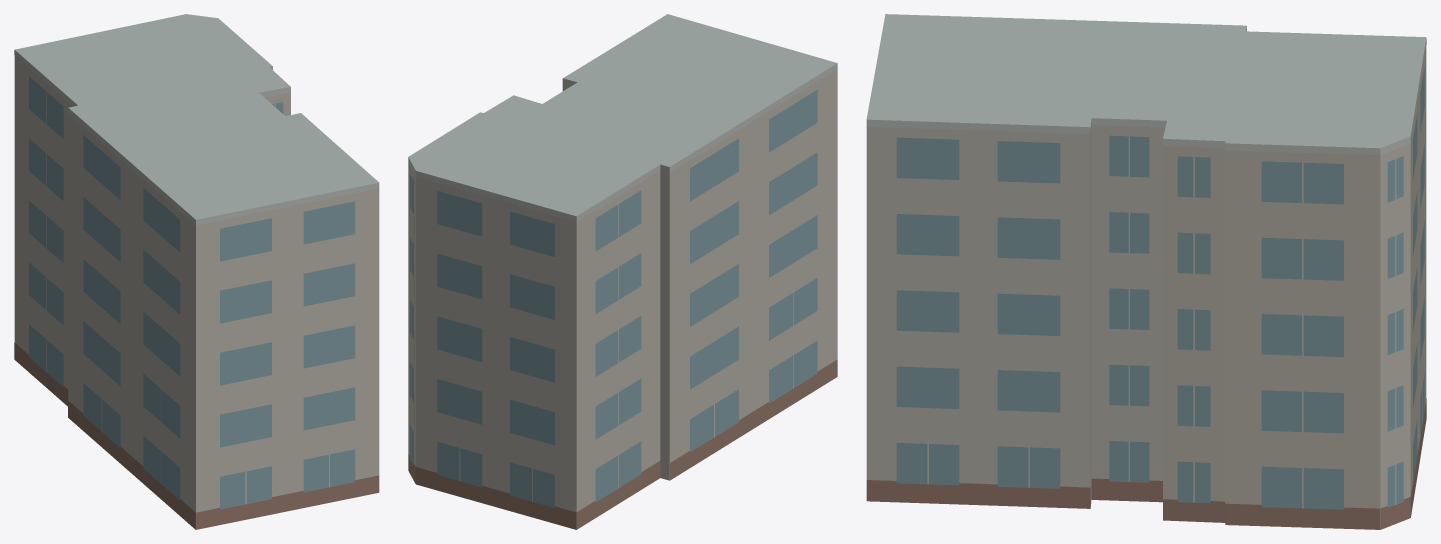
Rendered from survey-upis-32835333.glb.
3 views of the same model, side by side, from view 1: azimuth 30°, elevation 25°; view 2: azimuth 150°, elevation 25°; view 3: azimuth 270°, elevation 25° (orthographic). The views are drawn at different scales.
Visible parts, largest first — view 1: survey-upis-32835333.tmp; view 2: survey-upis-32835333.tmp; view 3: survey-upis-32835333.tmp.
Boxes of the visible parts, x1,y1,x2,y2 form: survey-upis-32835333.tmp: (14, 14, 379, 529); survey-upis-32835333.tmp: (408, 14, 837, 529); survey-upis-32835333.tmp: (866, 14, 1426, 529).
Size of the model in its own units: 9.97 by 13.2 by 17.56.
